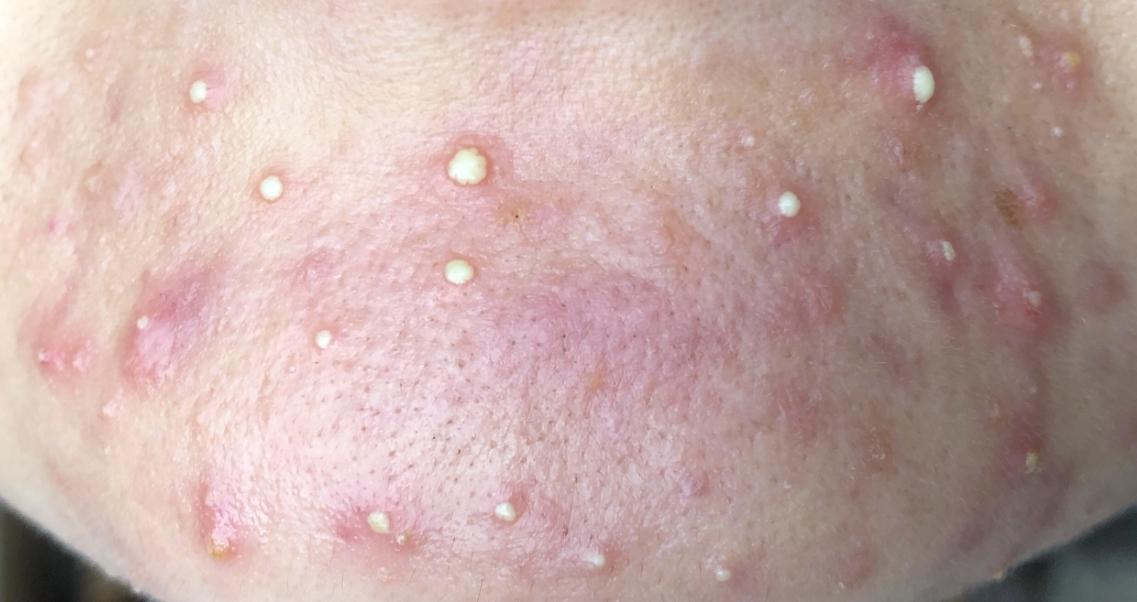folliculitis: (474, 479, 548, 542), (761, 181, 821, 229)
purulent: (419, 125, 515, 213), (884, 36, 968, 132), (429, 238, 495, 311), (347, 499, 422, 557), (301, 312, 355, 373), (248, 155, 294, 226), (177, 57, 222, 129), (689, 552, 744, 599), (579, 538, 626, 583)
sebo-crystan-conglo: (1010, 1, 1115, 118), (988, 388, 1076, 503), (112, 287, 197, 398), (998, 240, 1080, 355), (192, 490, 248, 590), (921, 227, 967, 278)
